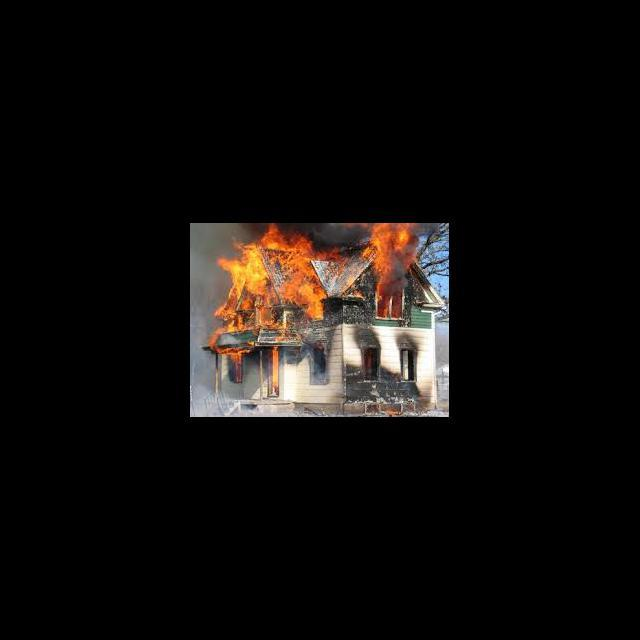Fire: (220, 223, 422, 350)
Smoke: (298, 224, 369, 252)
